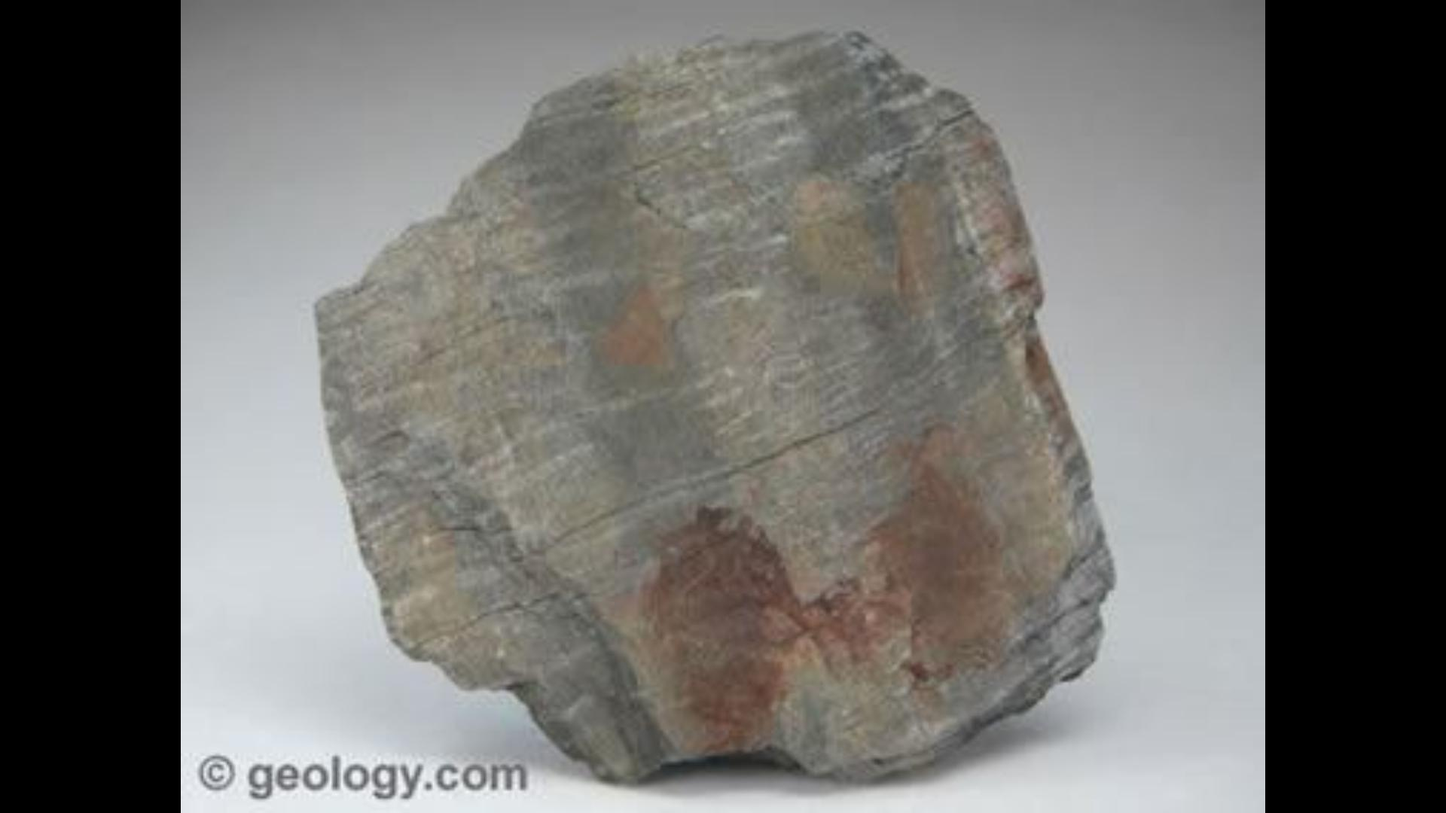rock: (318, 34, 1111, 779)
